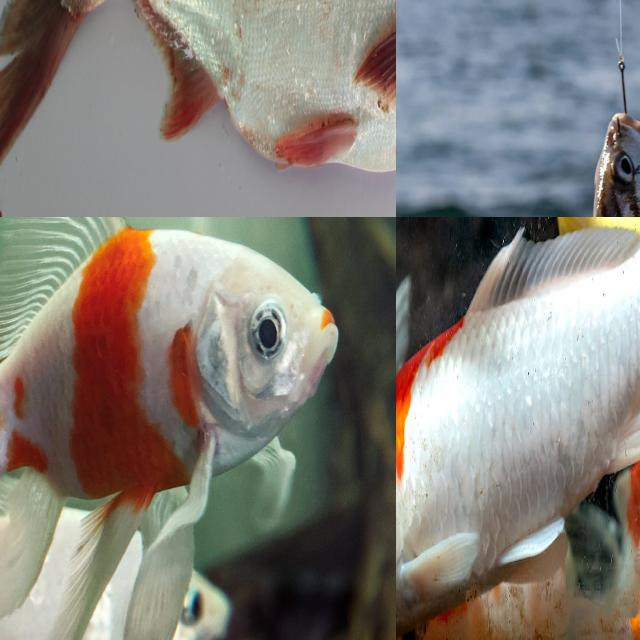fish: (0, 217, 278, 640), (0, 0, 396, 217), (396, 0, 640, 217), (396, 320, 449, 393)
